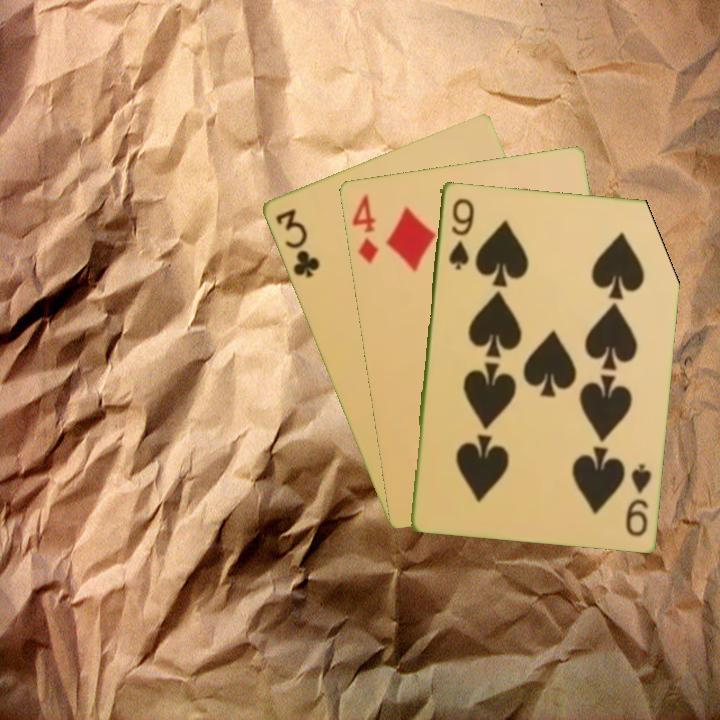3c: (271, 204, 323, 281)
4d: (347, 190, 381, 267)
9s: (621, 459, 654, 539), (445, 194, 476, 273)
